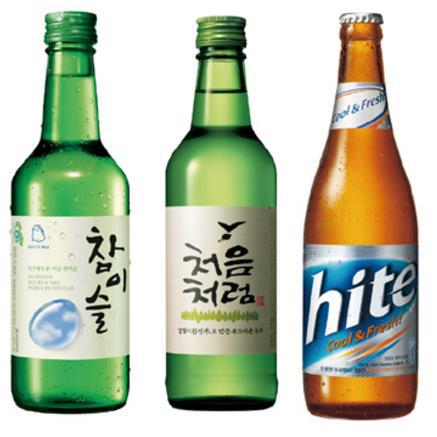soju: (7, 7, 131, 417), (163, 13, 279, 414)
